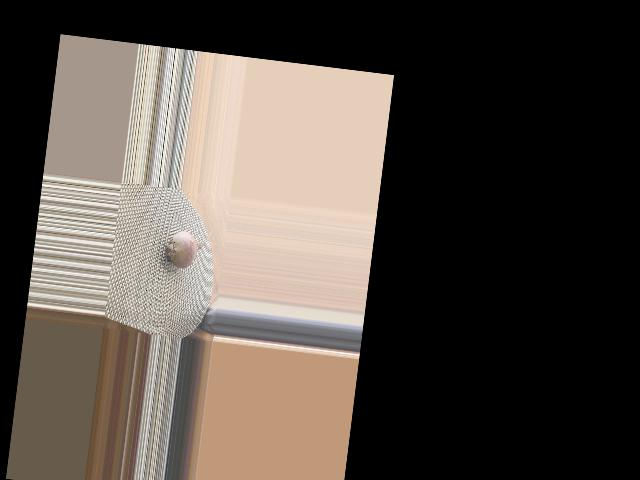beet: (160, 223, 211, 276)
